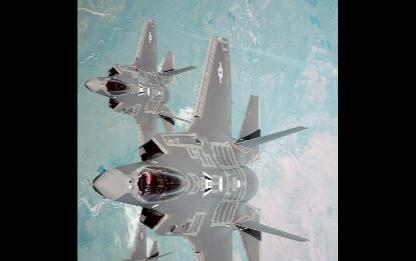F22: (92, 36, 311, 260), (86, 19, 198, 144), (98, 222, 177, 260)
